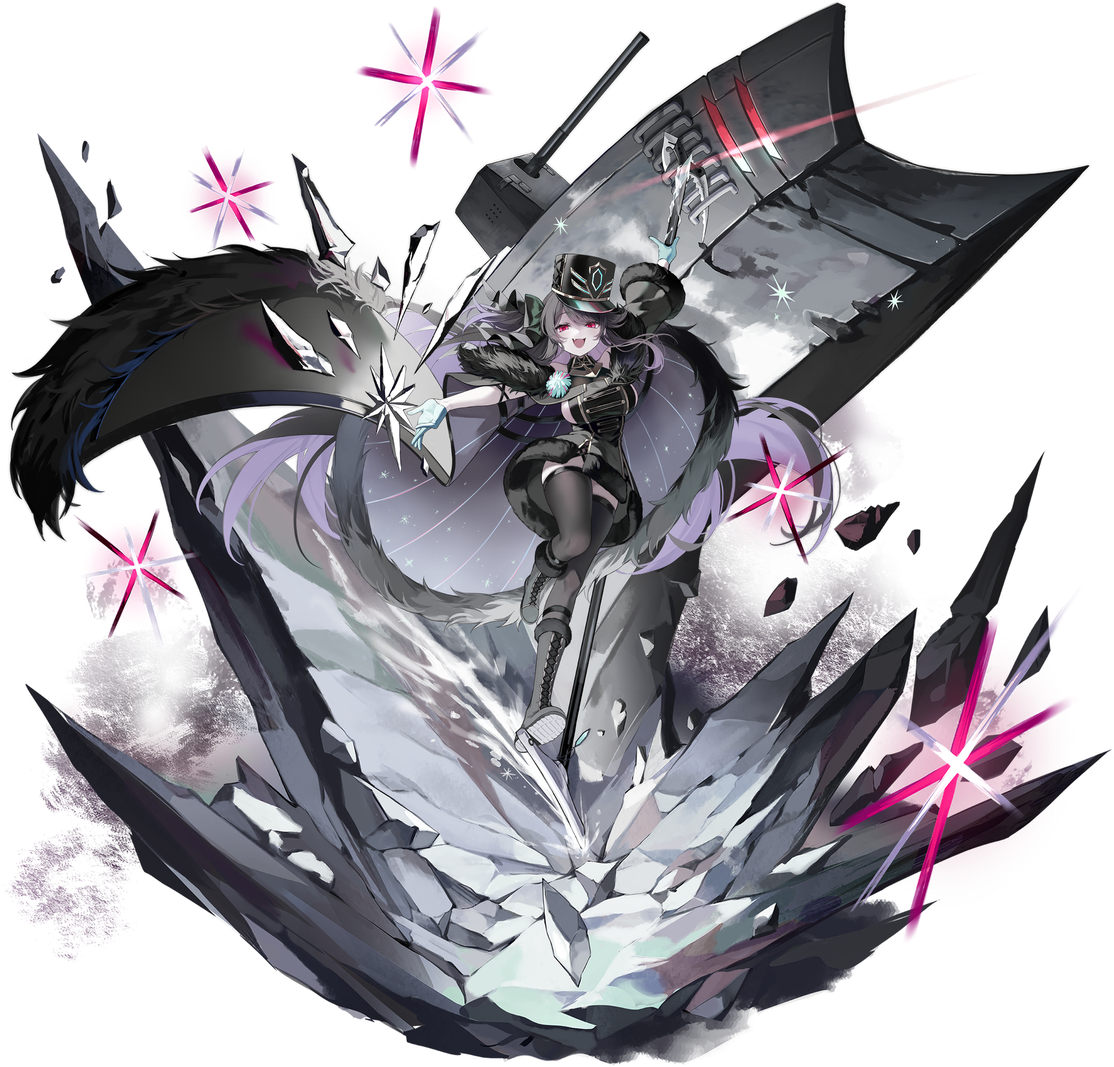person: (432, 224, 727, 831)
